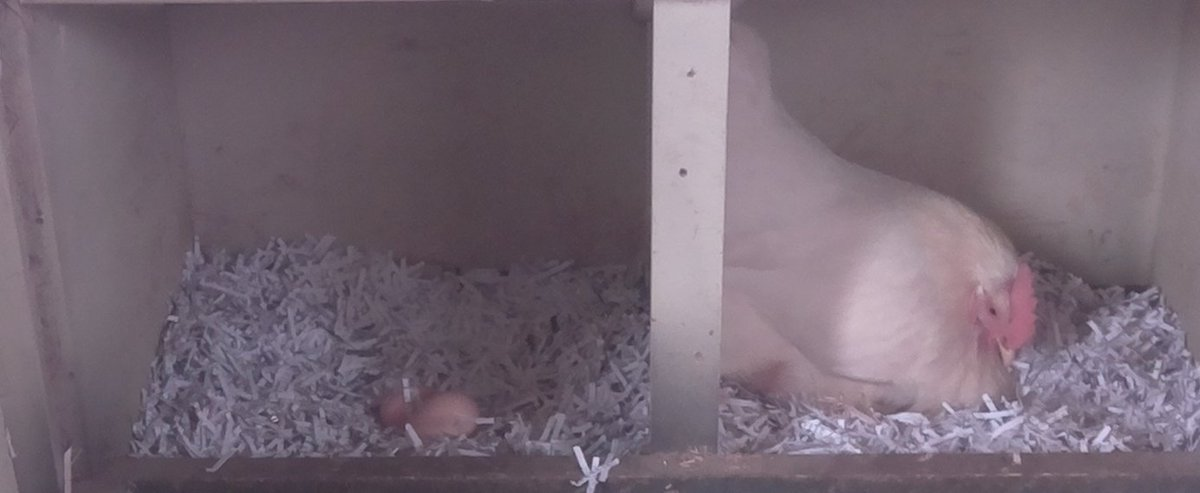egg: (405, 392, 480, 441), (377, 384, 421, 432)
hen: (731, 38, 1049, 434)
